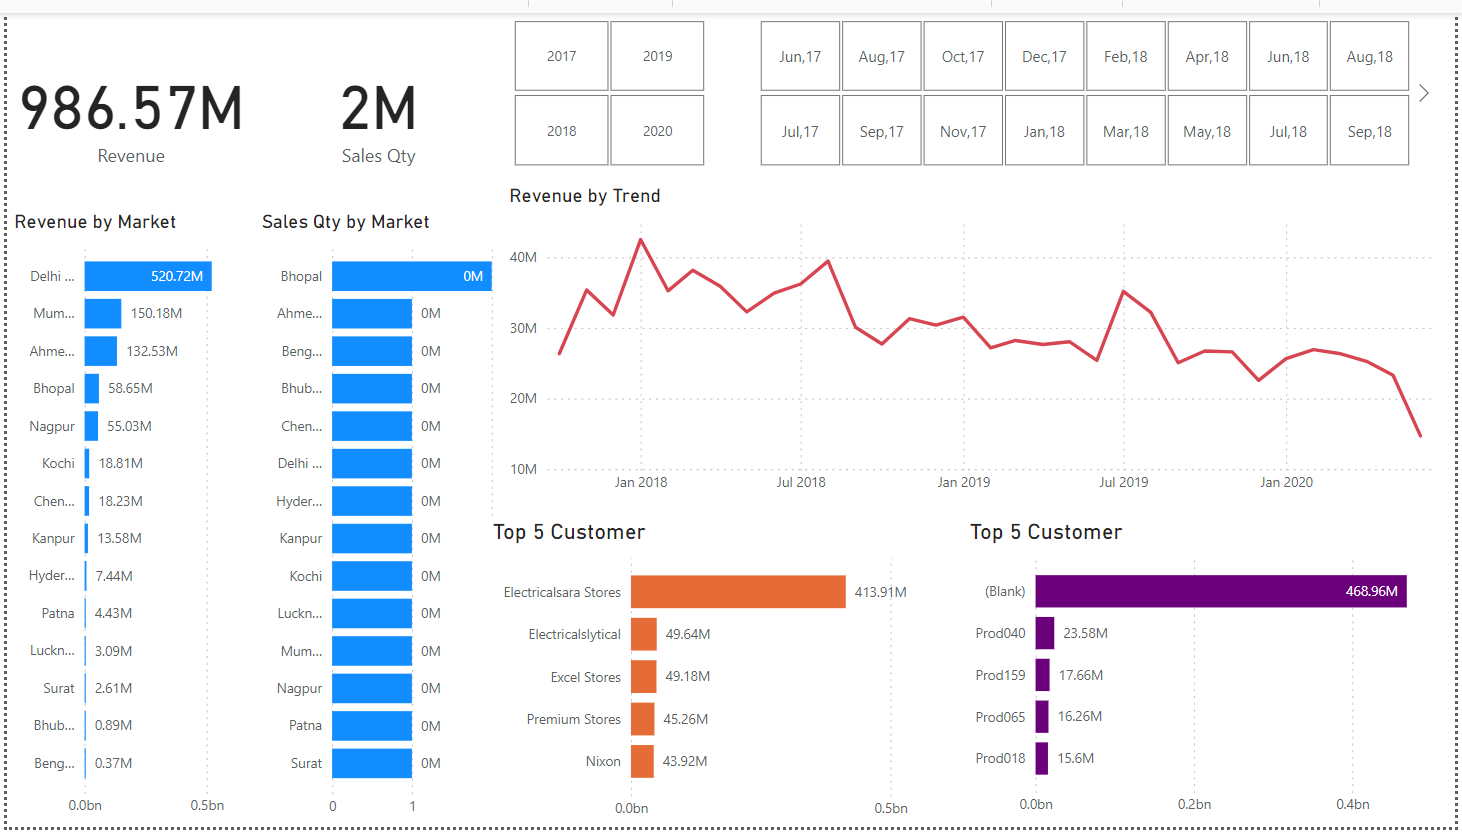

This screenshot's page, from the dashboard's own definition file:
{"tool":"powerbi","page":{"name":"Page 1","canvas":[1280,720],"ordinal":0},"visuals":[{"type":"card","fields":{"Values":["BaseMeasure.Revenue"]},"box":[0,0,218.8,173.8],"z":0},{"type":"card","fields":{"Values":["BaseMeasure.Sales Qty"]},"box":[218.8,0,218.8,173.8],"z":1000},{"type":"barChart","title":"Revenue by Market","fields":{"Category":["sales markets.markets_name"],"Y":["BaseMeasure.Revenue"]},"box":[1.5,174.1,216.5,545.1],"z":2000},{"type":"barChart","title":"Sales Qty by Market","fields":{"Category":["sales markets.markets_name"],"Y":["sales markets.markets_name"]},"box":[220.3,173.4,217.2,545.3],"z":3000},{"type":"slicer","fields":{"Values":["sales date.year"]},"box":[423.5,0,217.6,141.7],"z":4000},{"type":"slicer","fields":{"Values":["sales date.cy_date"]},"box":[641.1,0,623.6,141.7],"z":5000},{"type":"barChart","title":"Top 5 Customer","fields":{"Y":["BaseMeasure.Revenue"],"Category":["sales customers.custmer_name"]},"box":[424,446.7,422.5,274.1],"z":6000},{"type":"barChart","title":"Top 5 Customer","fields":{"Y":["BaseMeasure.Revenue"],"Category":["sales products.product_code"]},"box":[846.4,446.7,433.1,271],"z":7000},{"type":"lineChart","title":"Revenue by Trend","fields":{"Y":["BaseMeasure.Revenue"],"Category":["sales date.cy_date"]},"box":[439.6,151.9,839.8,281.9],"z":8000}]}

Visuals, with their boxes in screenshot pixels (x1, y1, x2, y2), scaled from the page's 1280x720 canvas onto the 1462x838 screenshot:
card - BaseMeasure.Revenue: [x1=0, y1=0, x2=250, y2=202]
card - BaseMeasure.Sales Qty: [x1=250, y1=0, x2=500, y2=202]
"Revenue by Market" barChart: [x1=2, y1=203, x2=249, y2=837]
"Sales Qty by Market" barChart: [x1=252, y1=202, x2=500, y2=836]
slicer - sales date.year: [x1=484, y1=0, x2=732, y2=165]
slicer - sales date.cy_date: [x1=732, y1=0, x2=1445, y2=165]
"Top 5 Customer" barChart: [x1=484, y1=520, x2=967, y2=837]
"Top 5 Customer" barChart: [x1=967, y1=520, x2=1461, y2=835]
"Revenue by Trend" lineChart: [x1=502, y1=177, x2=1461, y2=505]
